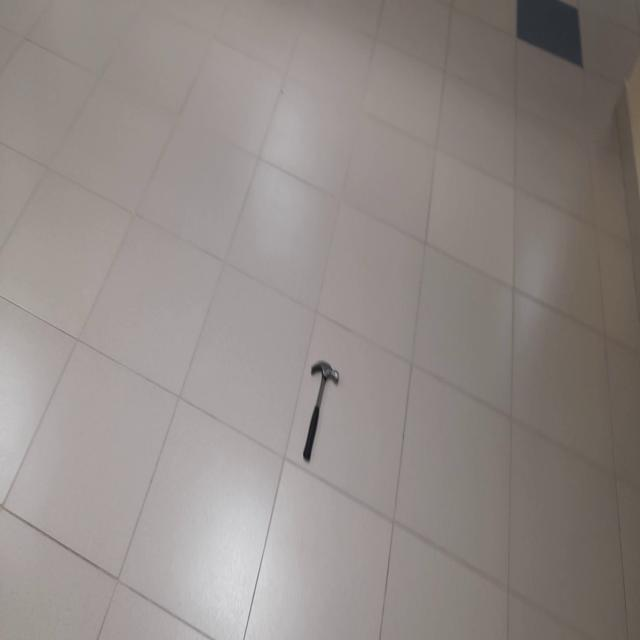hammer: (303, 360, 339, 462)
